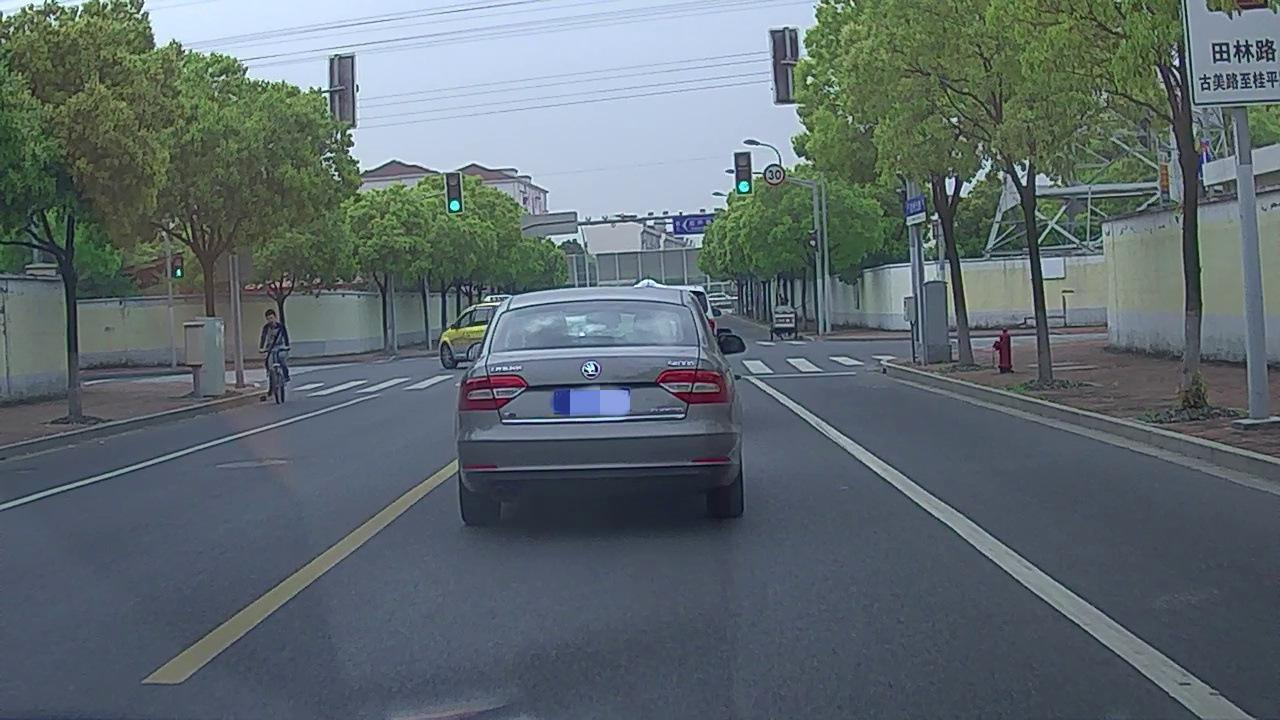traffic_light: (736, 151, 752, 195), (445, 175, 463, 212)
